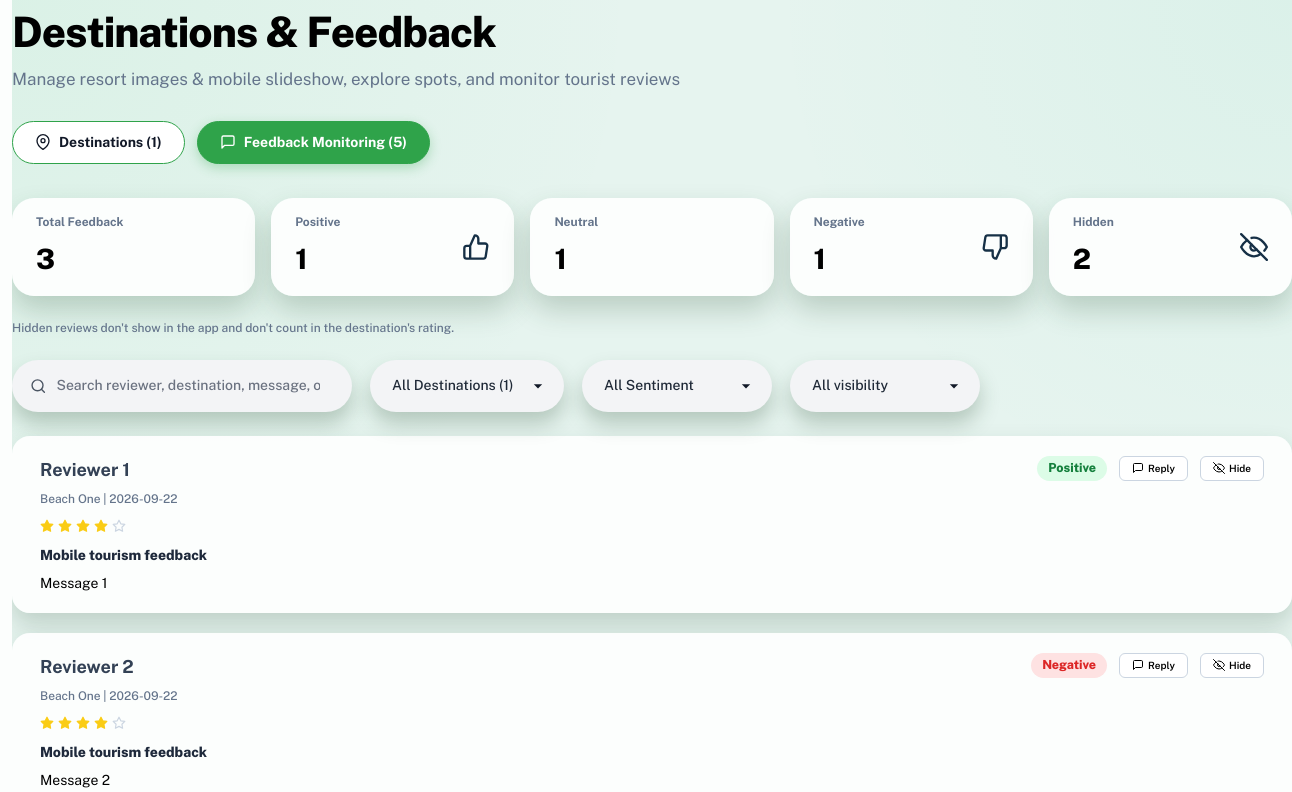
Scenario: Hide / show a review: the card › a failed hide shows the error
The width and height of the screenshot is (1292, 792).
Click the button "Hide" in the row of "Reviewer 1" at coordinates (1232, 468), box x1=1200 y1=456 x2=1264 y2=480
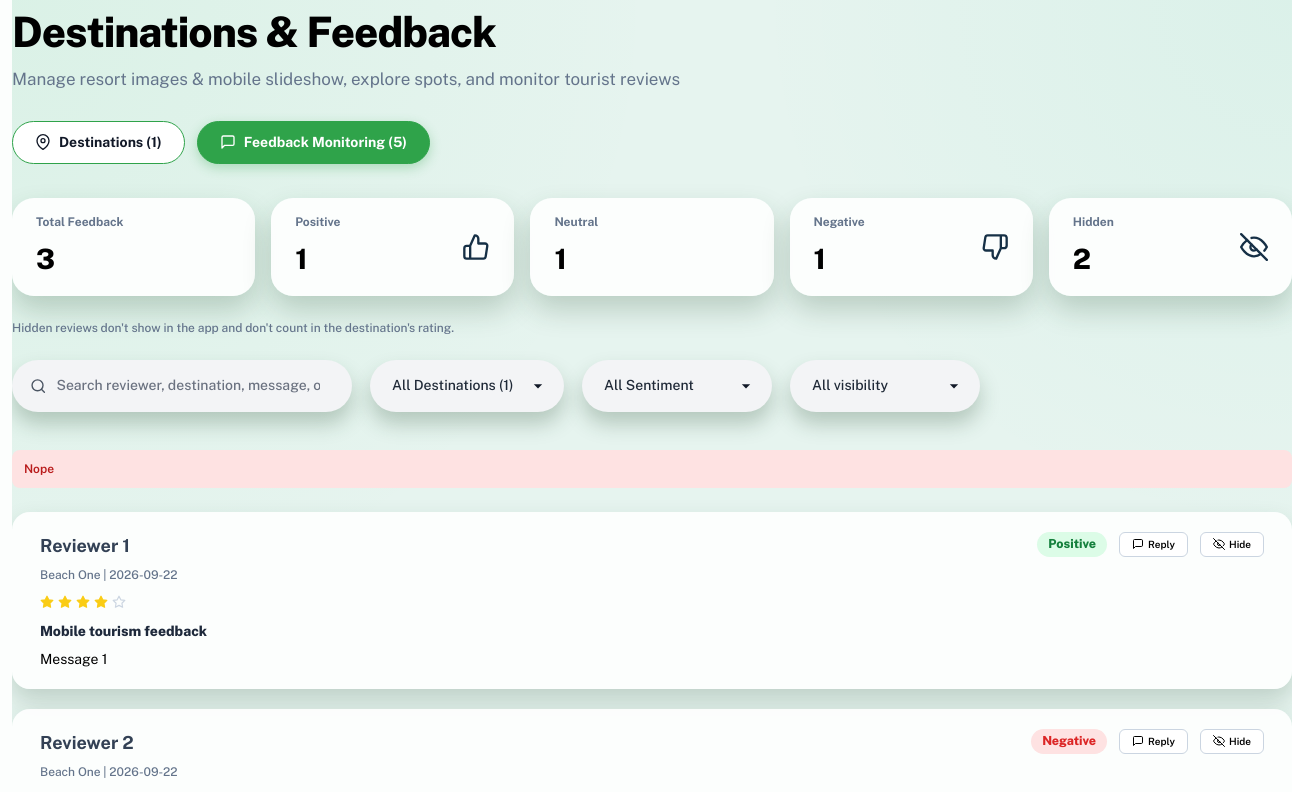
Expected: the text "Nope" is shown, x1=12 y1=450 x2=1291 y2=488
